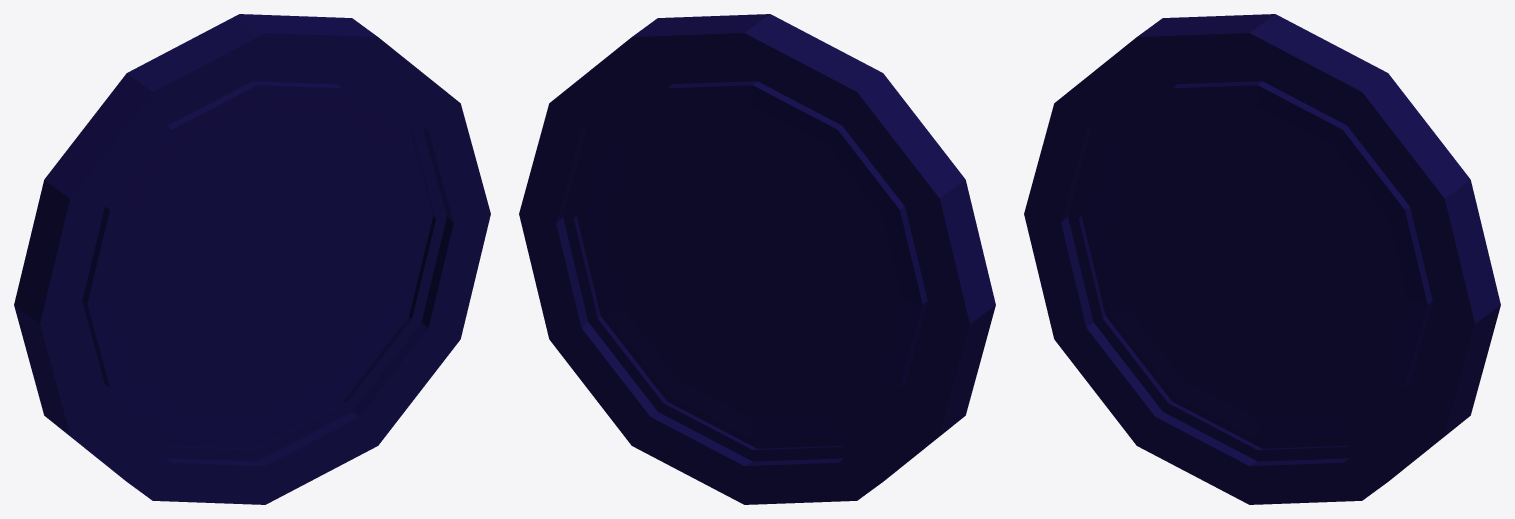
The model's file is UI_SM_Poker_Chip_v2.fbx.
3 views of the same model, side by side, from view 1: azimuth 30°, elevation 25°; view 2: azimuth 150°, elevation 25°; view 3: azimuth 330°, elevation 25° (orthographic).
Visible parts, largest first — view 1: UI_SM_Poker_Chip; view 2: UI_SM_Poker_Chip; view 3: UI_SM_Poker_Chip.
Boxes of the visible parts, <box> form: UI_SM_Poker_Chip: <box>14,14,490,504</box>; UI_SM_Poker_Chip: <box>519,14,995,504</box>; UI_SM_Poker_Chip: <box>1024,14,1500,504</box>.
Size of the model in its own units: 200 by 19.95 by 200.
